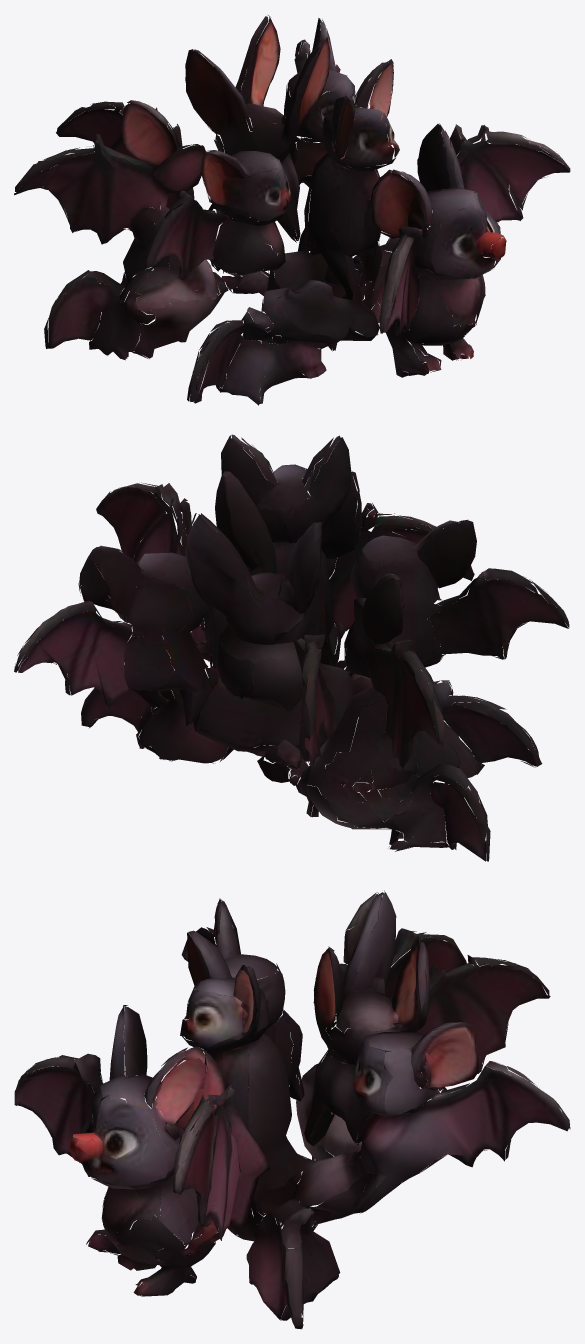
File: bat_swarm.glb
The picture shows the model from 3 angles, top to bottom: view 1: azimuth 30°, elevation 25°; view 2: azimuth 150°, elevation 25°; view 3: azimuth 270°, elevation 25°; orthographic projection. The views are drawn at different scales.
Visible parts, largest first — view 1: geometry_0; view 2: geometry_0; view 3: geometry_0.
Part boxes in pixels (x1=…): geometry_0: x1=14, y1=15, x2=570, y2=405; geometry_0: x1=14, y1=434, x2=569, y2=861; geometry_0: x1=14, y1=890, x2=570, y2=1329.
Size of the model in its own units: 0.9992 by 0.6225 by 0.9736.
Materials: 1 (1 with a texture image).
